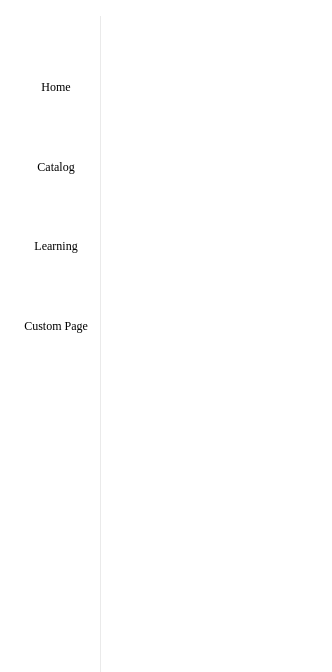
ALMSidebar › Submenu State Transitions › should hide submenu after clicking submenu item
Hover over the list item "Learning" at (56, 231), box [12,191,100,271]
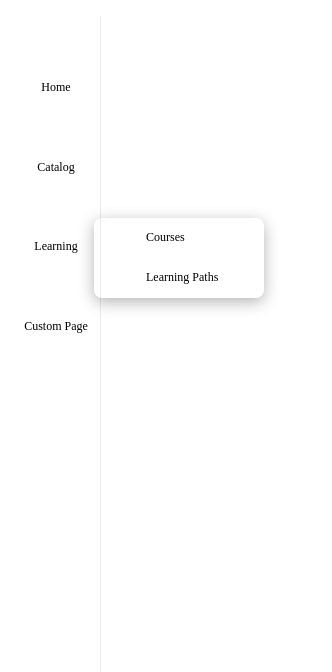
Now the button "Learning" is expanded, box [12,191,100,271]
Click the menu item "Courses" at (179, 238), box [94,218,264,258]
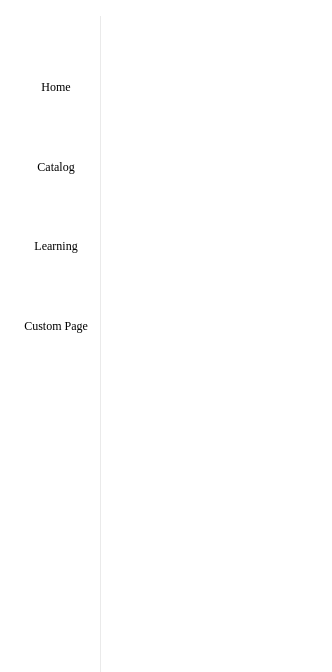
Now the button "Learning" is collapsed, box [12,191,100,271]
